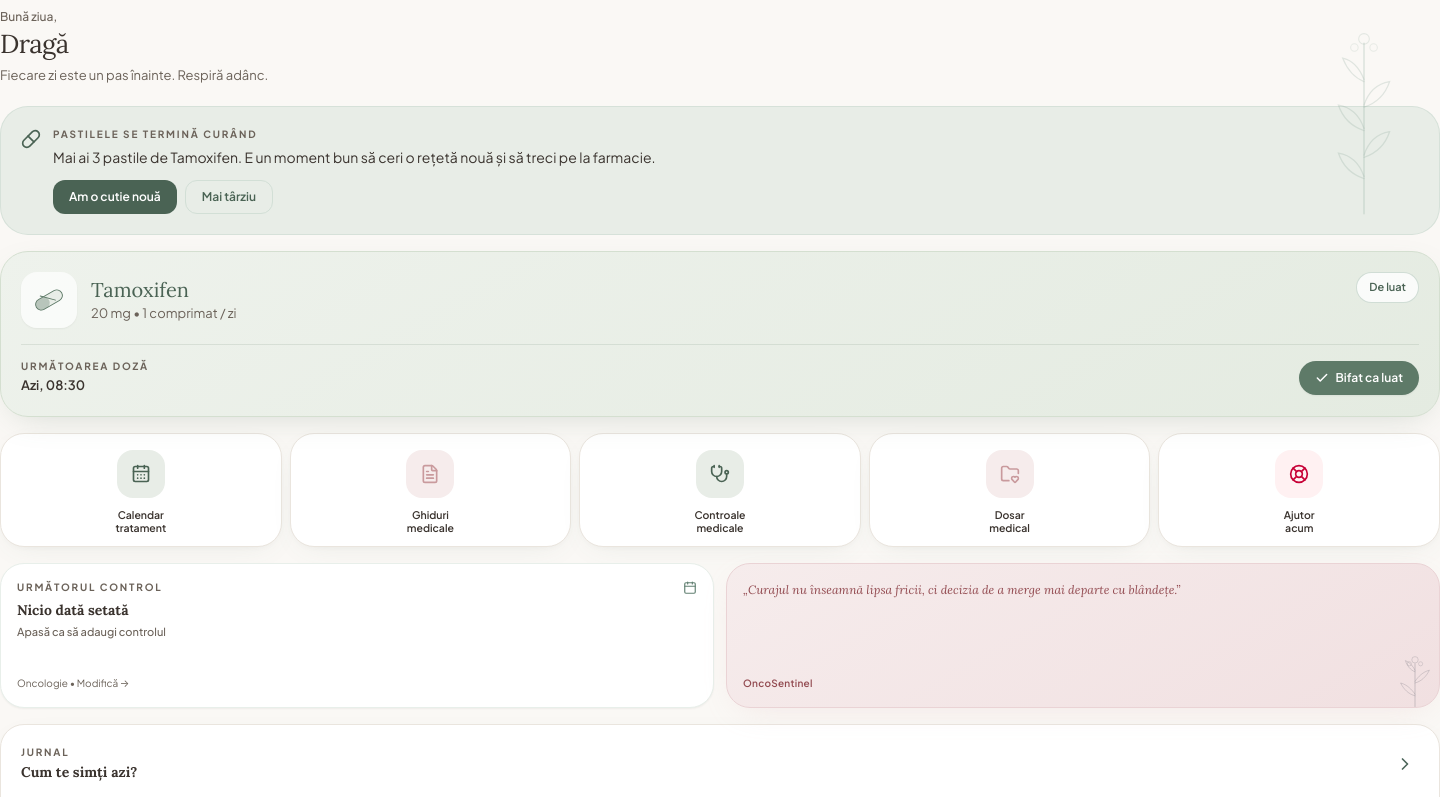
Pe Astăzi › „Mai târziu” ascunde cardul
The width and height of the screenshot is (1440, 797).
Click the button "Mai târziu".
click(229, 197)  # box top-left (185, 180), bottom-right (273, 214)
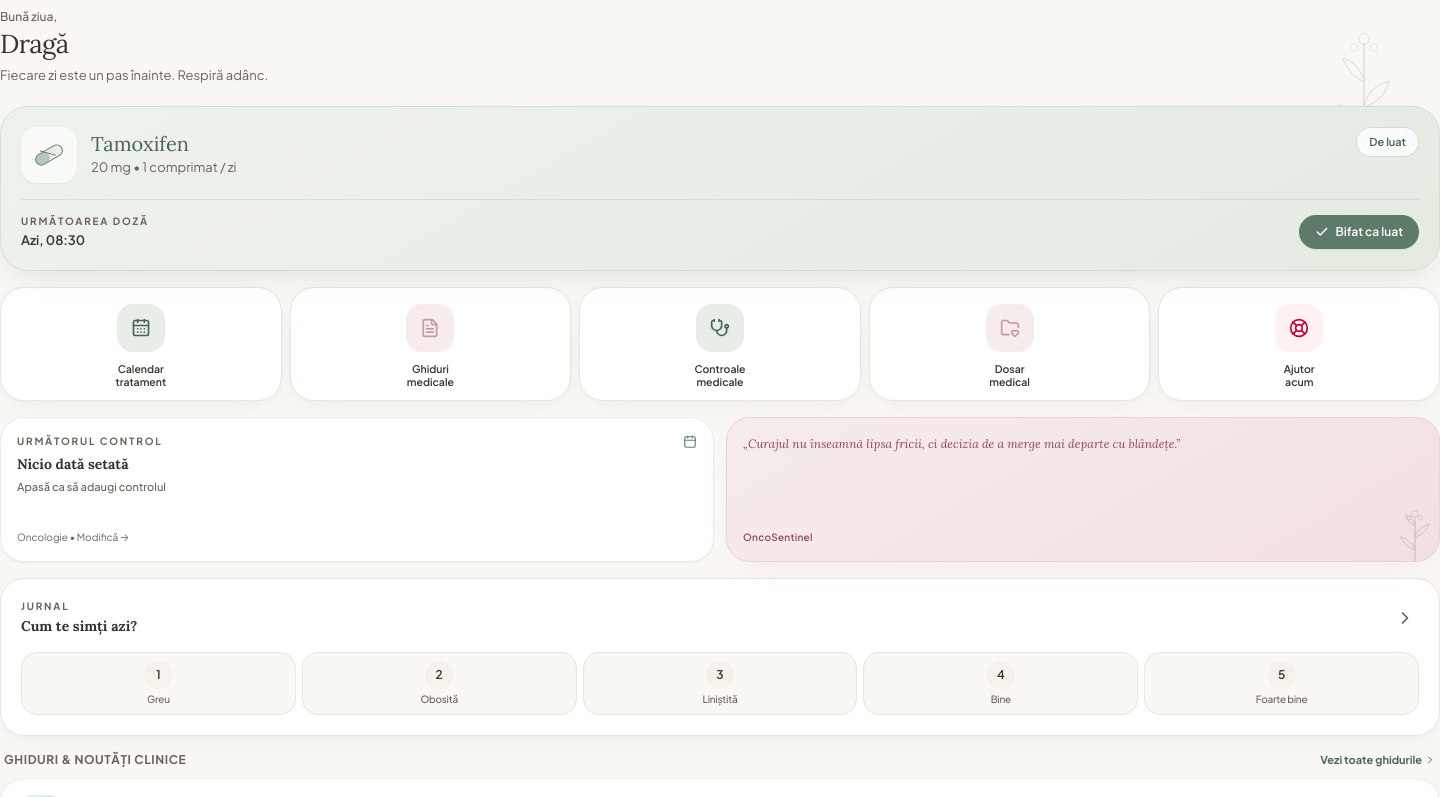
Expected: the heading "Pastilele se termină curând" is gone
